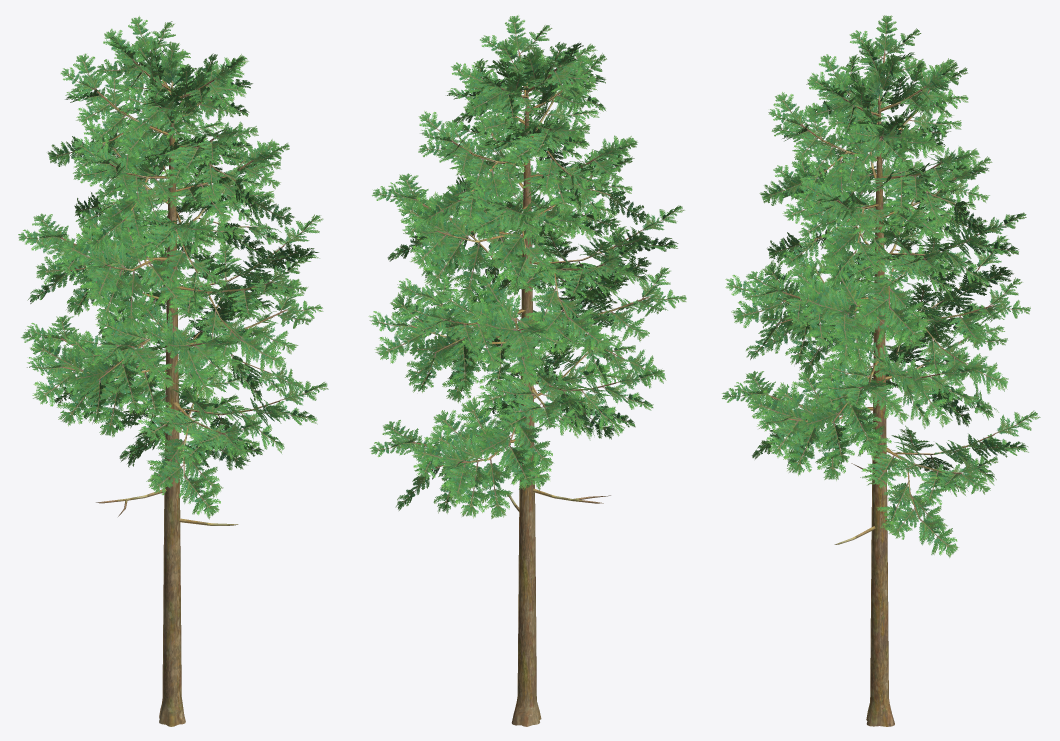
The model's file is MS_ConiferA01.fbx.
The picture shows the model from 3 angles, left to right: view 1: azimuth 30°, elevation 25°; view 2: azimuth 150°, elevation 25°; view 3: azimuth 270°, elevation 25°; orthographic projection. The views are drawn at different scales.
Parts seen in each view (by area): view 1: MS_ConiferA01; view 2: MS_ConiferA01; view 3: MS_ConiferA01.
Part boxes in pixels (x1,y1,x2,y2): MS_ConiferA01: (18,16,328,726); MS_ConiferA01: (368,15,686,726); MS_ConiferA01: (722,15,1040,726).
Size of the model in its own units: 825 by 1932 by 839.
